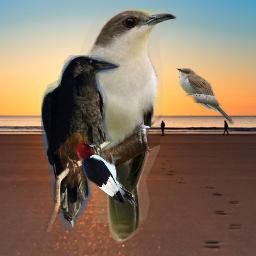Crow: (41, 55, 120, 232)
Cuckoo: (78, 9, 178, 244), (176, 68, 235, 125)
Woodpecker: (77, 141, 138, 206)
